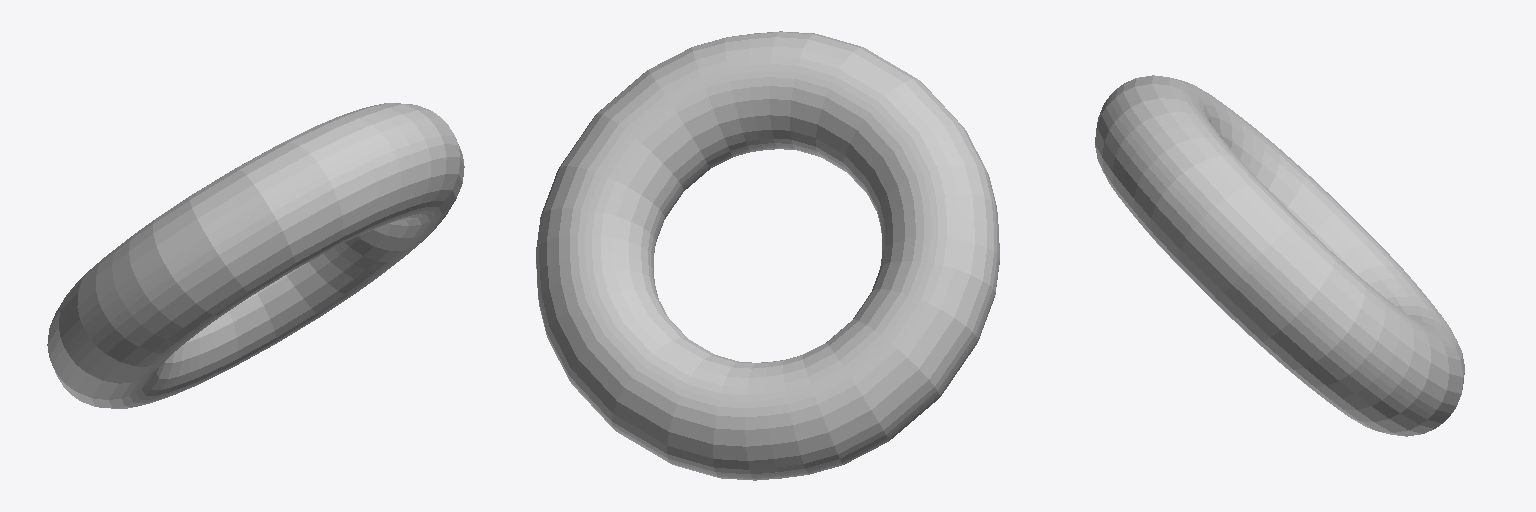
File: dounut.obj
3 views of the same model, side by side, from view 1: azimuth 30°, elevation 25°; view 2: azimuth 150°, elevation 25°; view 3: azimuth 270°, elevation 25° (orthographic).
Size of the model in its own units: 1.97 by 1.58 by 1.58.